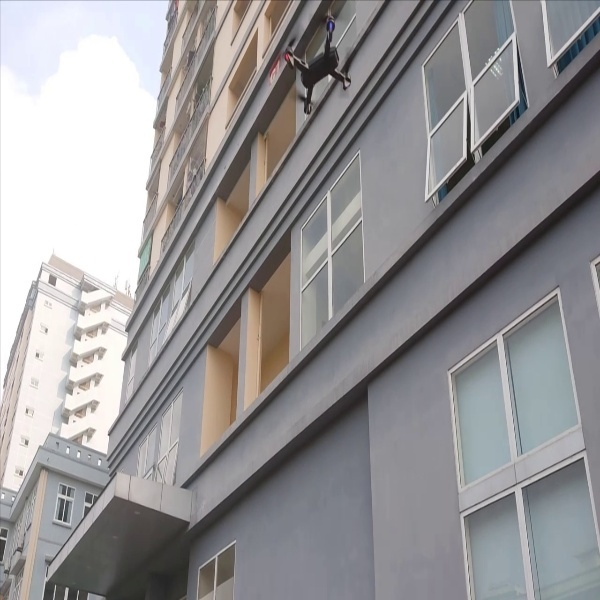drone: (274, 11, 370, 118)
